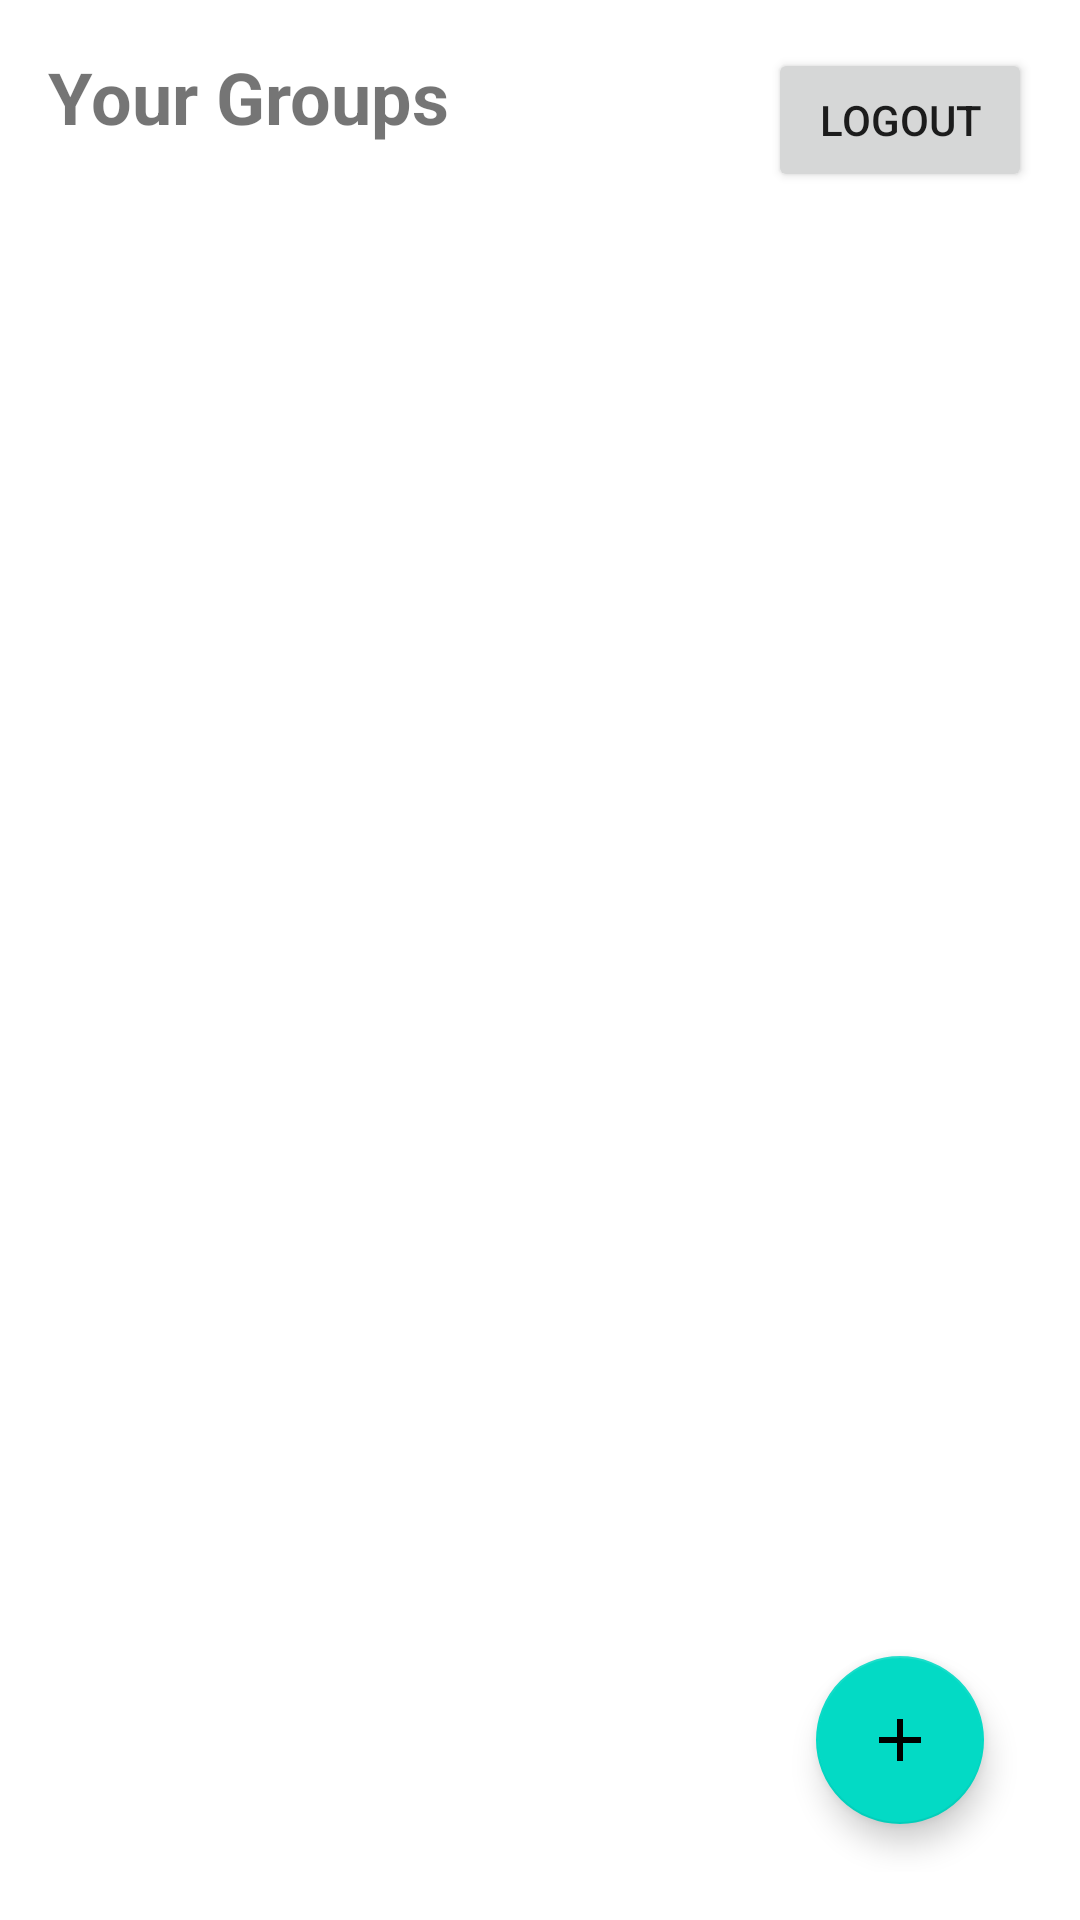

Locate icon controls on the screen. Image size 1080px×1920px, boxes as (x1=x1, y1=y1, x2=x2, y2=y2).
Create Group: (x1=816, y1=1656, x2=984, y2=1824)
